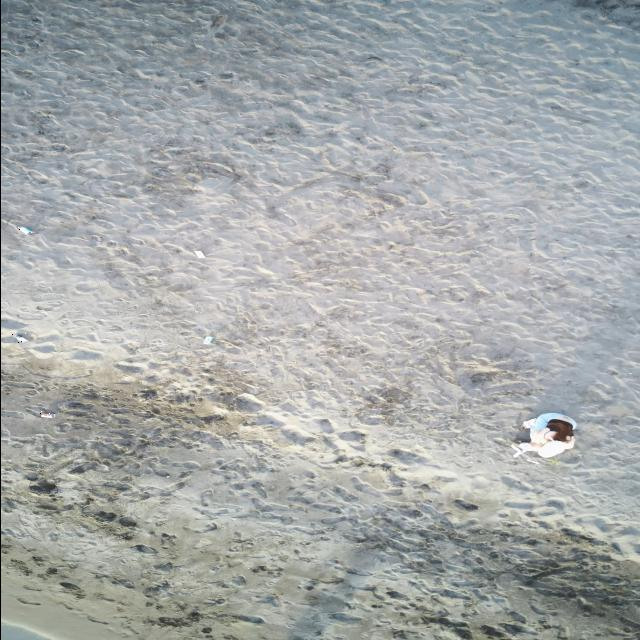Garbage: (519, 412, 575, 456), (512, 443, 528, 456), (511, 443, 524, 456), (12, 332, 27, 342), (524, 455, 539, 463), (16, 226, 32, 232), (39, 411, 55, 417), (193, 249, 203, 258), (204, 335, 212, 344)
